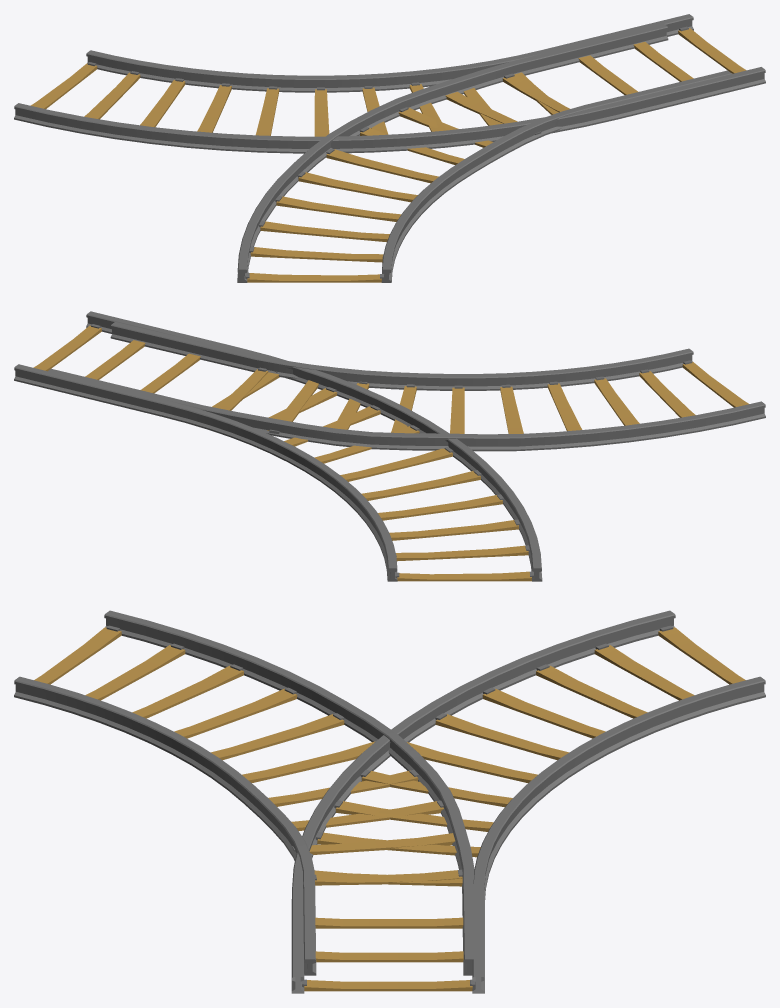
Rendered from SM_TrainTrackSplit.fbx.
The picture shows the model from 3 angles, top to bottom: view 1: azimuth 30°, elevation 25°; view 2: azimuth 150°, elevation 25°; view 3: azimuth 270°, elevation 25°; orthographic projection. The views are drawn at different scales.
Visible parts, largest first — view 1: SM_TrainTrackSplit; view 2: SM_TrainTrackSplit; view 3: SM_TrainTrackSplit.
Part boxes in pixels (x1,y1,x2,y2): SM_TrainTrackSplit: (14, 14, 765, 282); SM_TrainTrackSplit: (14, 311, 765, 581); SM_TrainTrackSplit: (14, 610, 765, 993).
Size of the model in its own units: 1259 by 29.43 by 1091.
